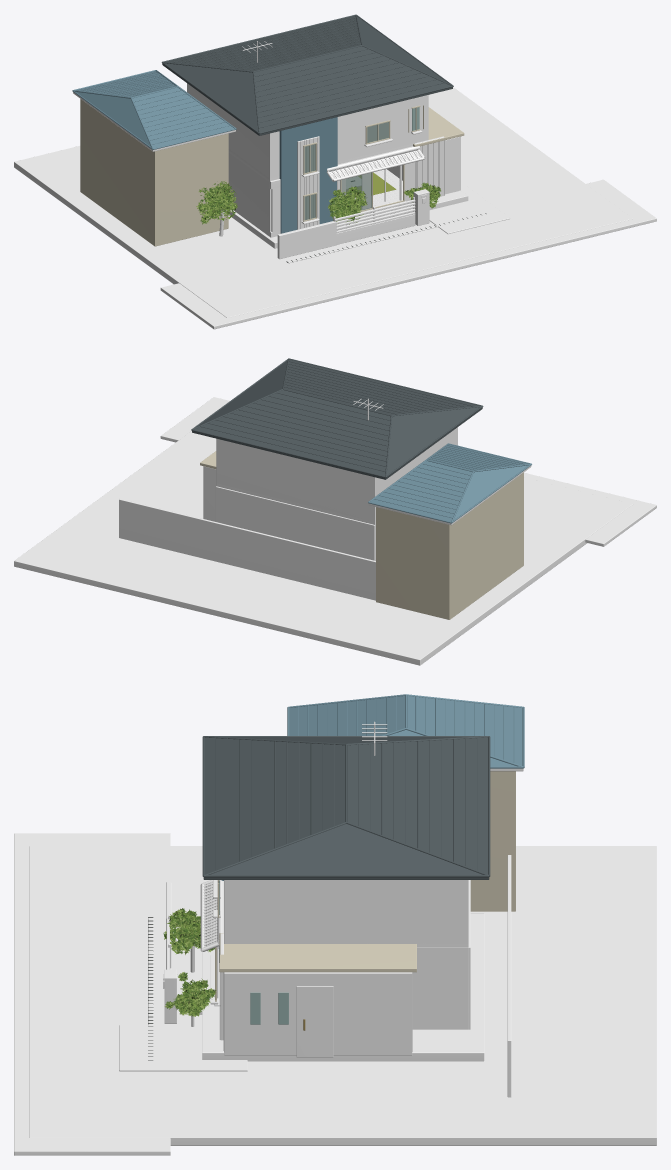
Rendered from oreki_visual.glb.
3 views of the same model, one above another, from view 1: azimuth 30°, elevation 25°; view 2: azimuth 150°, elevation 25°; view 3: azimuth 270°, elevation 25° (orthographic). The views are drawn at different scales.
Visible parts, largest first — view 1: VIS_Architecture_earth.001, VIS_Architecture_Oreki_roof_dark, VIS_Architecture_cream.001, VIS_Architecture_plaster.001, VIS_Architecture_roofblue, VIS_Architecture_concrete.001, VIS_Architecture_lightwood.001, VIS_Architecture_wood.001, VIS_Garden_leafdeep_leafmid_leafsun.001, VIS_Architecture_stone.001, VIS_Architecture_tile.001, VIS_Architecture_window_tinted (+3 smaller); view 2: VIS_Architecture_earth.001, VIS_Architecture_plaster.001, VIS_Architecture_Oreki_roof_dark, VIS_Architecture_cream.001, VIS_Architecture_roofblue, VIS_Architecture_concrete.001; view 3: VIS_Architecture_earth.001, VIS_Architecture_Oreki_roof_dark, VIS_Architecture_plaster.001, VIS_Architecture_cream.001, VIS_Architecture_roofblue, VIS_Architecture_concrete.001, VIS_Architecture_stone.001, HOUSE_entry_side_door, VIS_Garden_leafdeep_leafmid_leafsun.001, VIS_Architecture_tile.001, VIS_Architecture_glass.
Part boxes in pixels (x1,y1,x2,y2): VIS_Architecture_earth.001: [14, 87, 632, 317]; VIS_Architecture_Oreki_roof_dark: [161, 14, 453, 135]; VIS_Architecture_cream.001: [80, 99, 464, 246]; VIS_Architecture_plaster.001: [187, 83, 460, 259]; VIS_Architecture_roofblue: [72, 70, 337, 233]; VIS_Architecture_concrete.001: [160, 179, 656, 329]; VIS_Architecture_lightwood.001: [297, 136, 444, 229]; VIS_Architecture_wood.001: [298, 137, 444, 233]; VIS_Garden_leafdeep_leafmid_leafsun.001: [196, 181, 440, 224]; VIS_Architecture_stone.001: [229, 41, 468, 263]; VIS_Architecture_tile.001: [327, 146, 422, 178]; VIS_Architecture_window_tinted: [304, 122, 388, 220]; VIS_Architecture_earth.001: [14, 431, 632, 665]; VIS_Architecture_plaster.001: [119, 427, 457, 600]; VIS_Architecture_Oreki_roof_dark: [191, 358, 483, 479]; VIS_Architecture_cream.001: [200, 451, 523, 619]; VIS_Architecture_roofblue: [368, 443, 531, 523]; VIS_Architecture_concrete.001: [160, 397, 656, 546]; VIS_Architecture_earth.001: [29, 846, 656, 1145]; VIS_Architecture_Oreki_roof_dark: [202, 736, 490, 879]; VIS_Architecture_plaster.001: [164, 855, 511, 1097]; VIS_Architecture_cream.001: [215, 771, 515, 1001]; VIS_Architecture_roofblue: [219, 694, 524, 962]; VIS_Architecture_concrete.001: [14, 833, 170, 1155]; VIS_Architecture_stone.001: [148, 721, 484, 1061]; HOUSE_entry_side_door: [296, 986, 333, 1057]; VIS_Garden_leafdeep_leafmid_leafsun.001: [163, 908, 216, 1016]; VIS_Architecture_tile.001: [203, 880, 222, 947]; VIS_Architecture_glass: [218, 880, 288, 1024].
Bounding box in the file's own units: 24 × 8.31 × 20.5.
